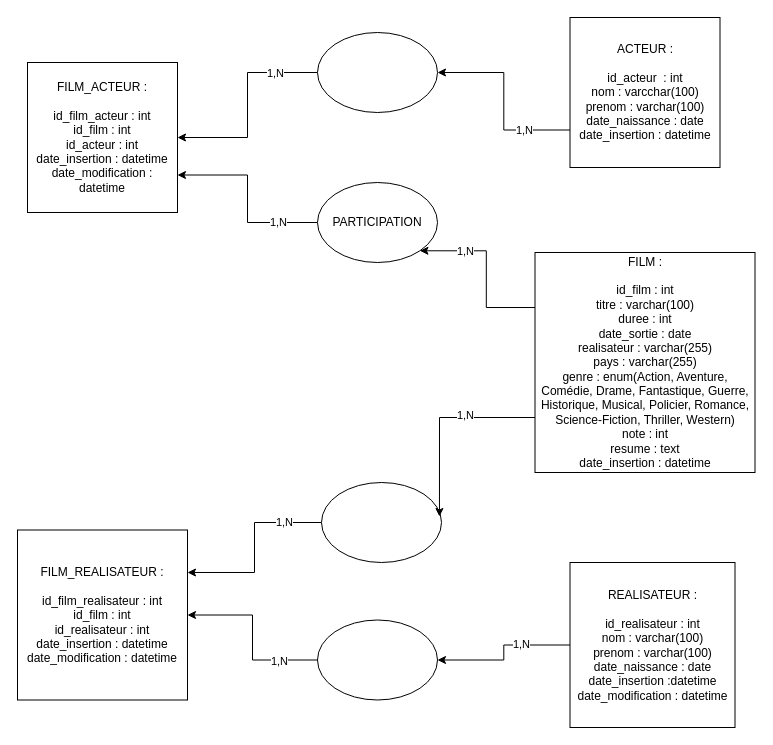
This 773x745 diagram has some shape labels left out. The shapes that lost their labels are listed below. From the top down, each one's centre as x and y in pixels, then its label:
(377,72): FAIRE
(381,522): DIRECTION
(377,659): REALISER
